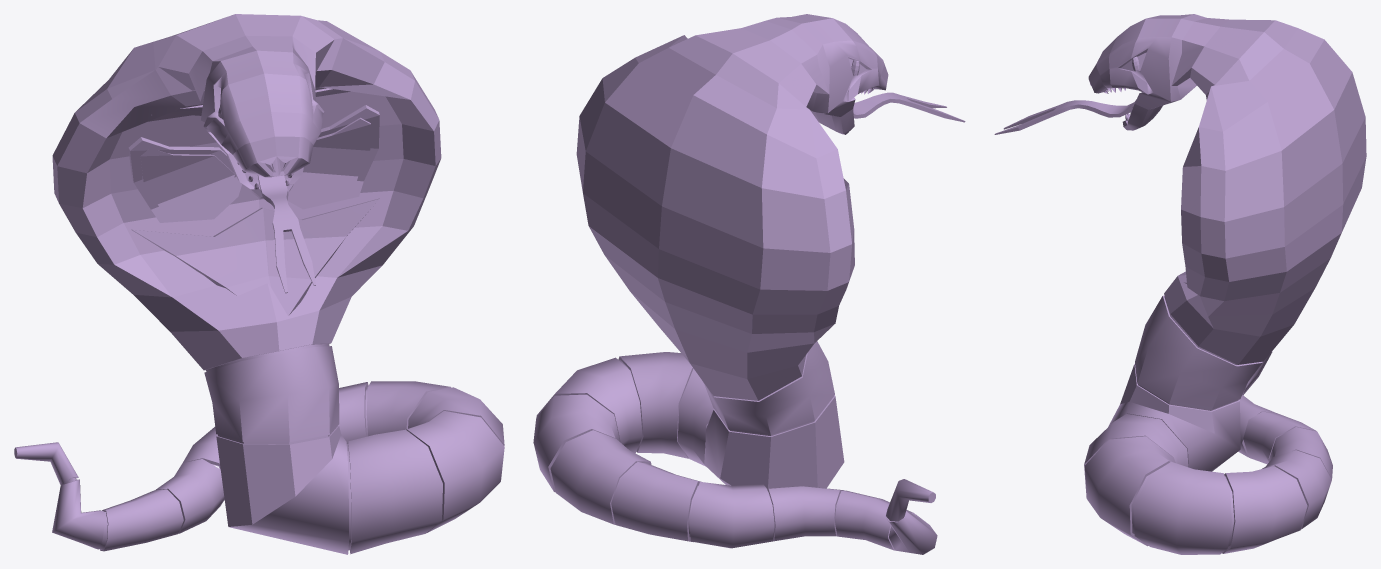
The model's file is arbok.glb.
The picture shows the model from 3 angles, left to right: view 1: azimuth 30°, elevation 25°; view 2: azimuth 150°, elevation 25°; view 3: azimuth 270°, elevation 25°; orthographic projection. The views are drawn at different scales.
Parts seen in each view (by area): view 1: Node; view 2: Node; view 3: Node.
Boxes of the visible parts, x1,y1,x2,y2 form: Node: (14,14,504,554); Node: (533,14,965,554); Node: (994,14,1366,554).
Size of the model in its own units: 13.42 by 14.83 by 11.02.
